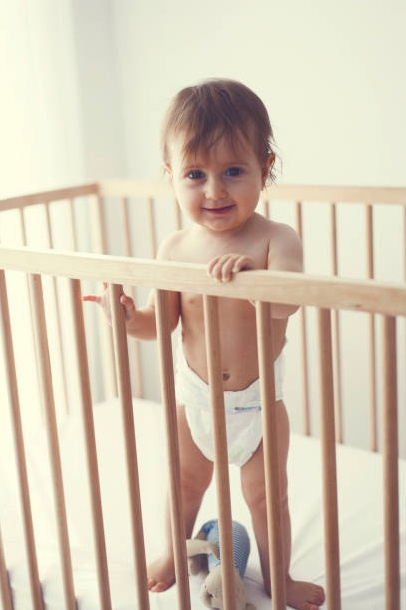baby: (272, 304, 324, 609)
crib: (0, 181, 405, 609)
